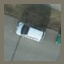car: (13, 21, 46, 44)
